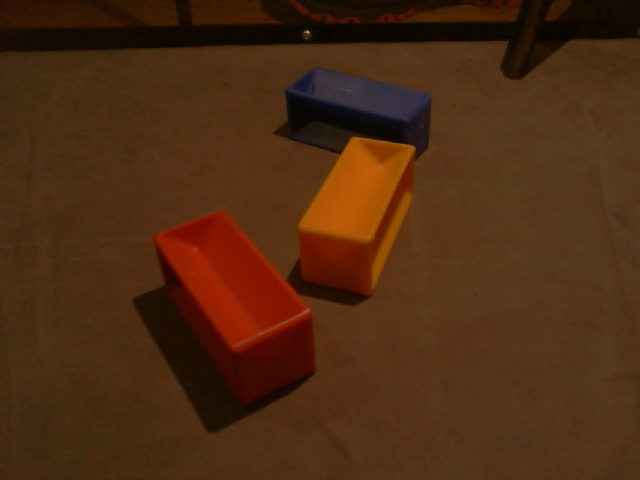BlueSample: (282, 62, 431, 161)
RedSample: (149, 206, 318, 406)
YellowSample: (295, 135, 415, 298)
